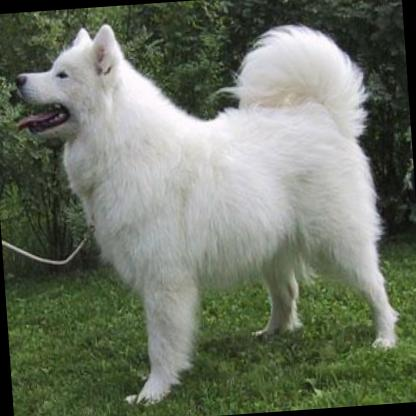Samoyed: (11, 6, 399, 410)
